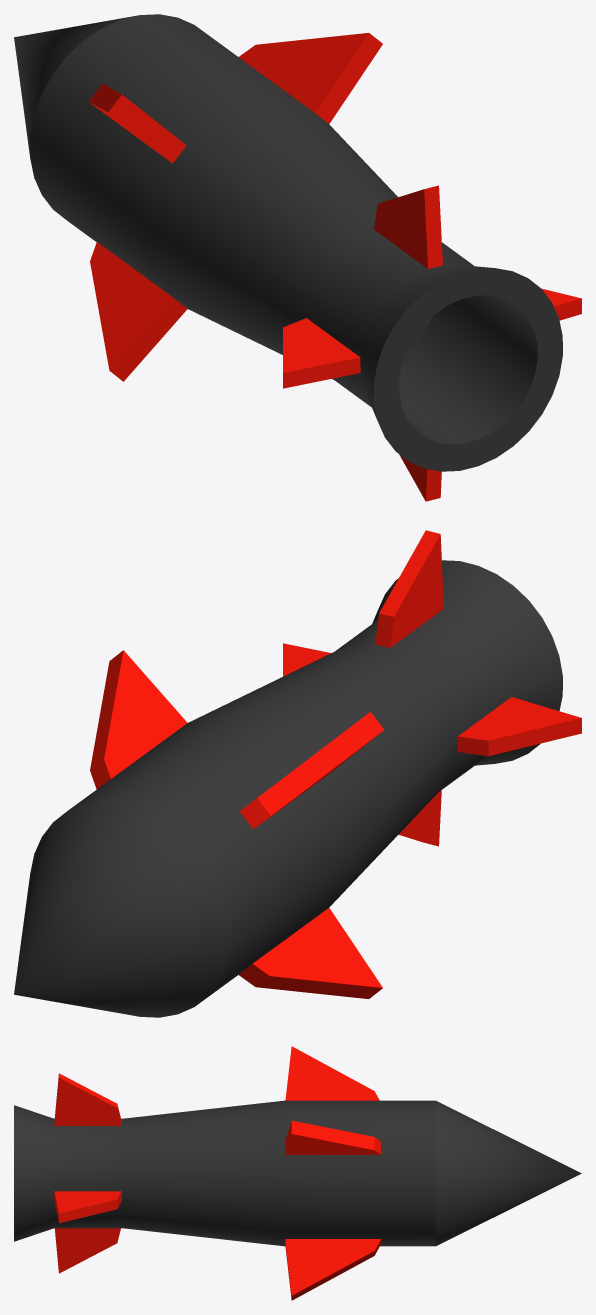
The model's file is prj_rocket.fbx.
The picture shows the model from 3 angles, top to bottom: view 1: azimuth 30°, elevation 25°; view 2: azimuth 150°, elevation 25°; view 3: azimuth 270°, elevation 25°; orthographic projection. The views are drawn at different scales.
Parts seen in each view (by area): view 1: Cylinder; view 2: Cylinder; view 3: Cylinder.
Boxes of the visible parts, x1,y1,x2,y2 form: Cylinder: [14, 14, 581, 501]; Cylinder: [14, 530, 581, 1017]; Cylinder: [14, 1046, 581, 1300].
Bounding box in the file's own units: 0.1847 × 0.1847 × 0.4859.
